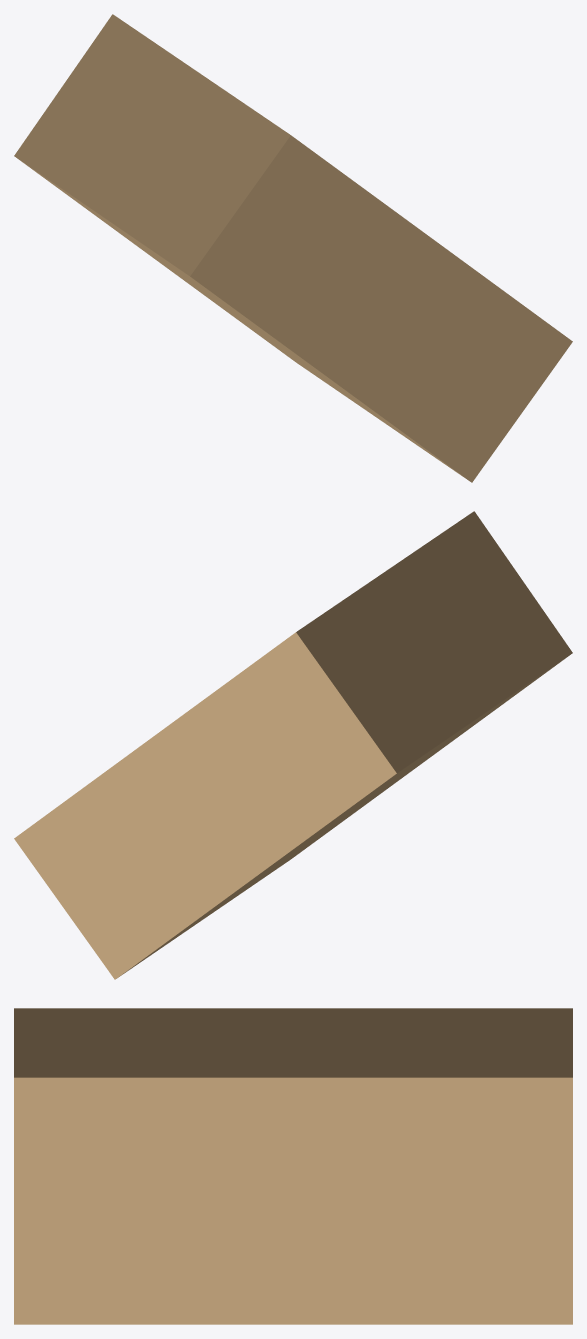
The picture shows the model from 3 angles, top to bottom: view 1: azimuth 30°, elevation 25°; view 2: azimuth 150°, elevation 25°; view 3: azimuth 270°, elevation 25°; orthographic projection.
Parts seen in each view (by area): view 1: 0_2_3_2_2_0_2_2_0_3_3; view 2: 0_2_3_2_2_0_2_2_0_3_3; view 3: 0_2_3_2_2_0_2_2_0_3_3.
Boxes of the visible parts, x1,y1,x2,y2 form: 0_2_3_2_2_0_2_2_0_3_3: [14, 14, 572, 482]; 0_2_3_2_2_0_2_2_0_3_3: [14, 511, 572, 979]; 0_2_3_2_2_0_2_2_0_3_3: [14, 1008, 572, 1324].
Size of the model in its own units: 11.91 by 11.56 by 21.
